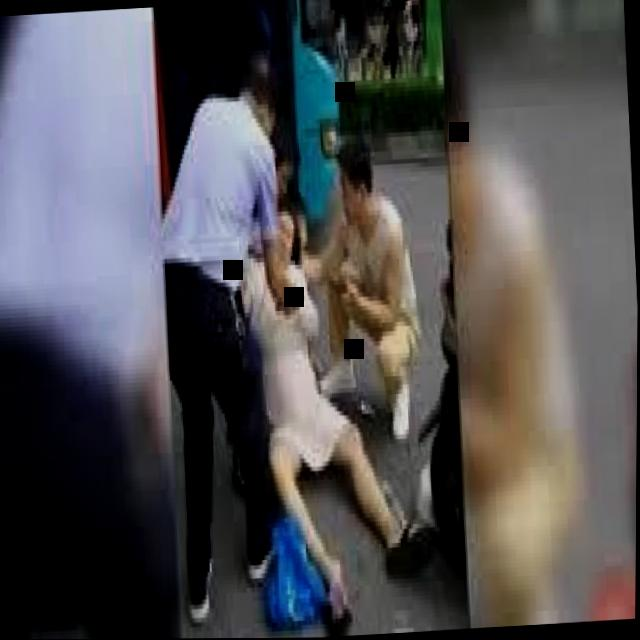Fall-Detected: (233, 181, 449, 620)
